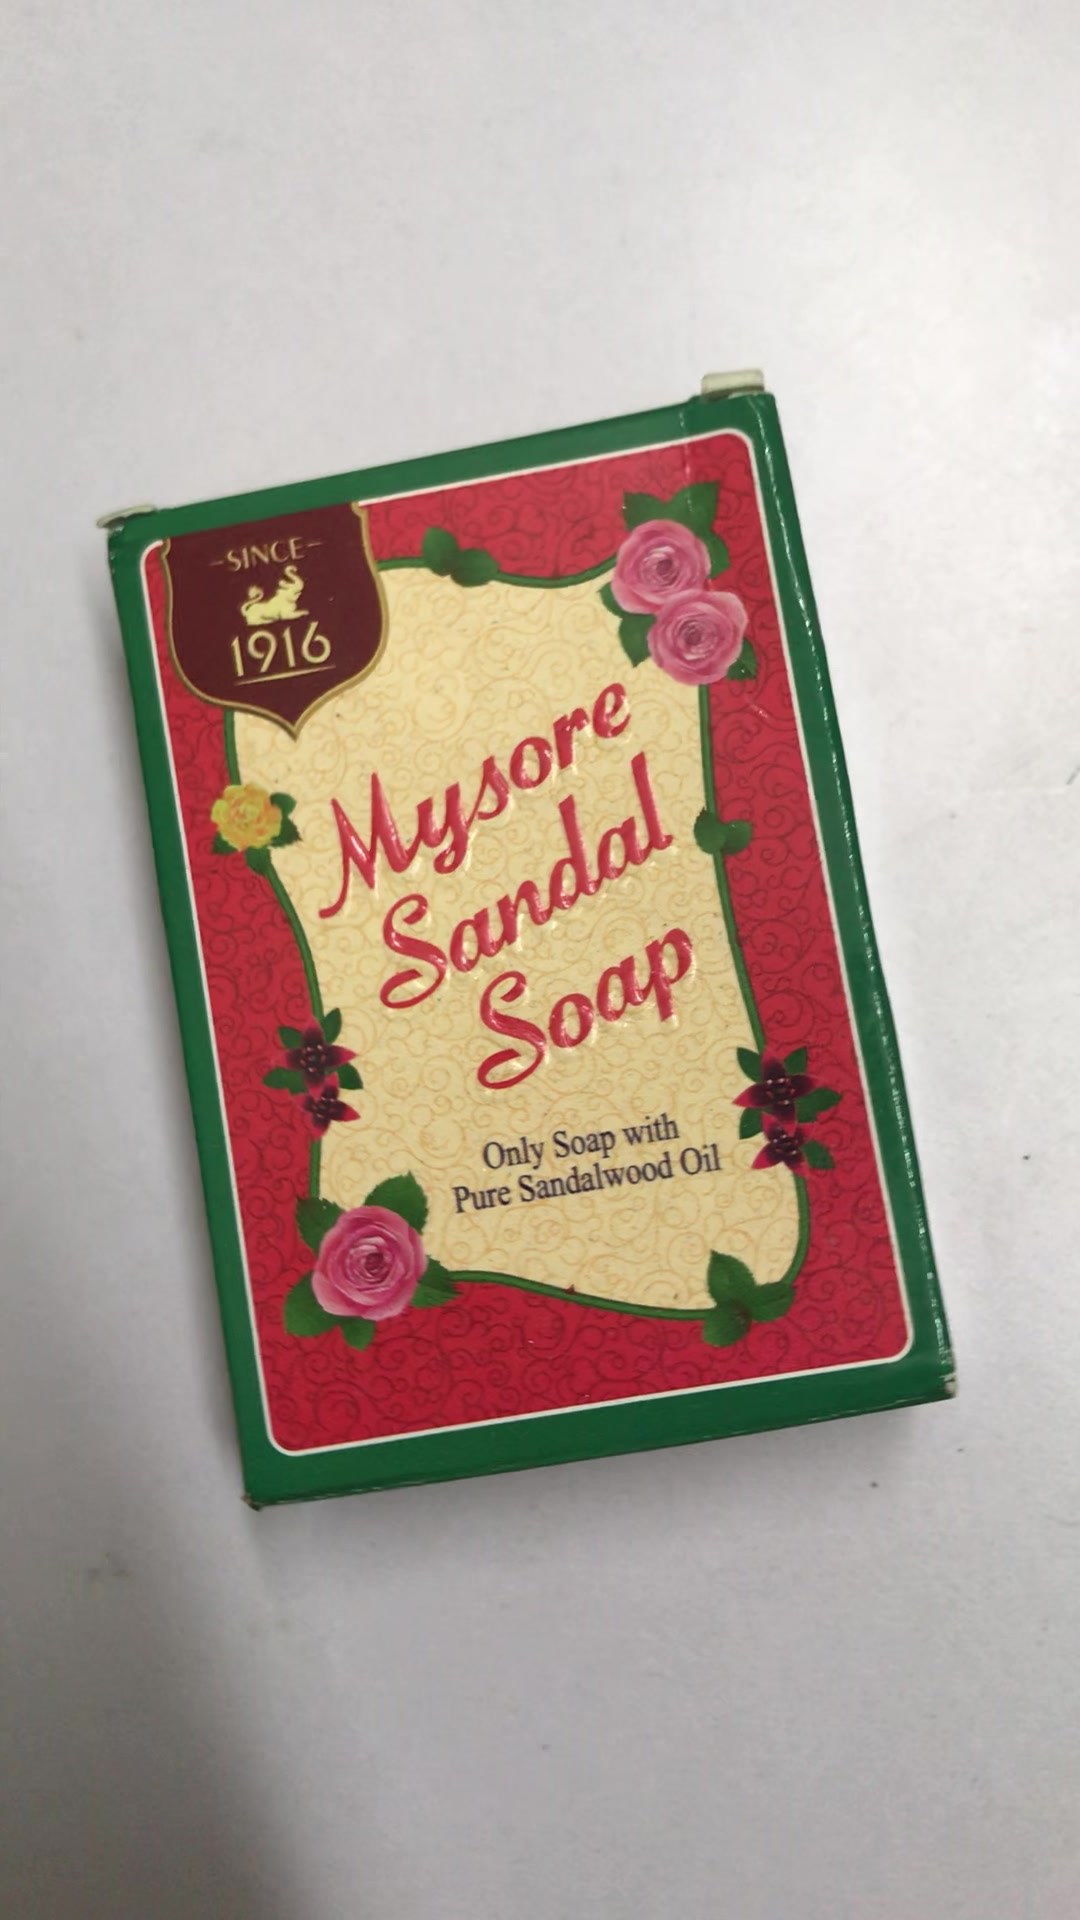mysore sandal soap: (107, 398, 951, 1511)
